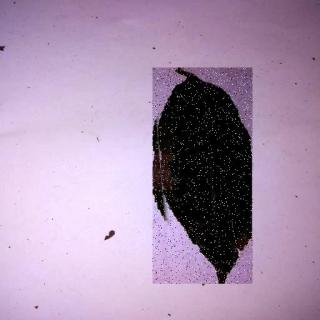Anthracnose: (154, 69, 254, 285)
